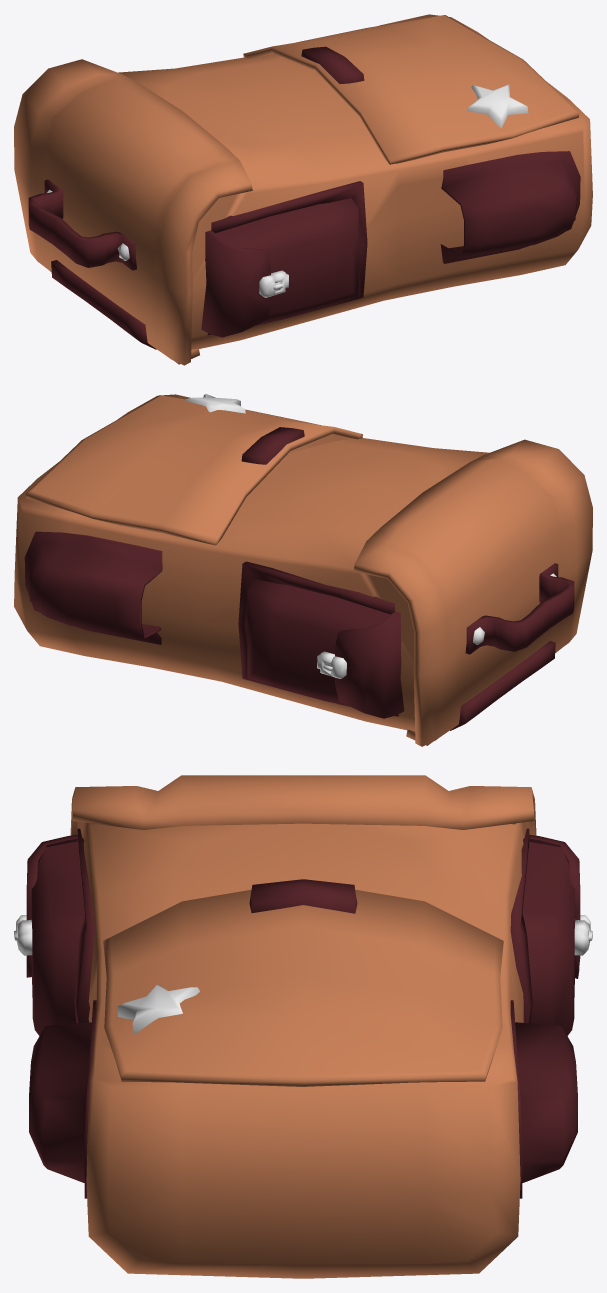
File: backpack.fbx
3 views of the same model, one above another, from view 1: azimuth 30°, elevation 25°; view 2: azimuth 150°, elevation 25°; view 3: azimuth 270°, elevation 25° (orthographic). The views are drawn at different scales.
Parts seen in each view (by area): view 1: backback; view 2: backback; view 3: backback.
Part boxes in pixels (box(x1,y1,x2,y2)): backback: box(14, 14, 592, 365); backback: box(14, 394, 592, 746); backback: box(14, 775, 592, 1278).
Bounding box in the file's own units: 141 × 59.03 × 110.
